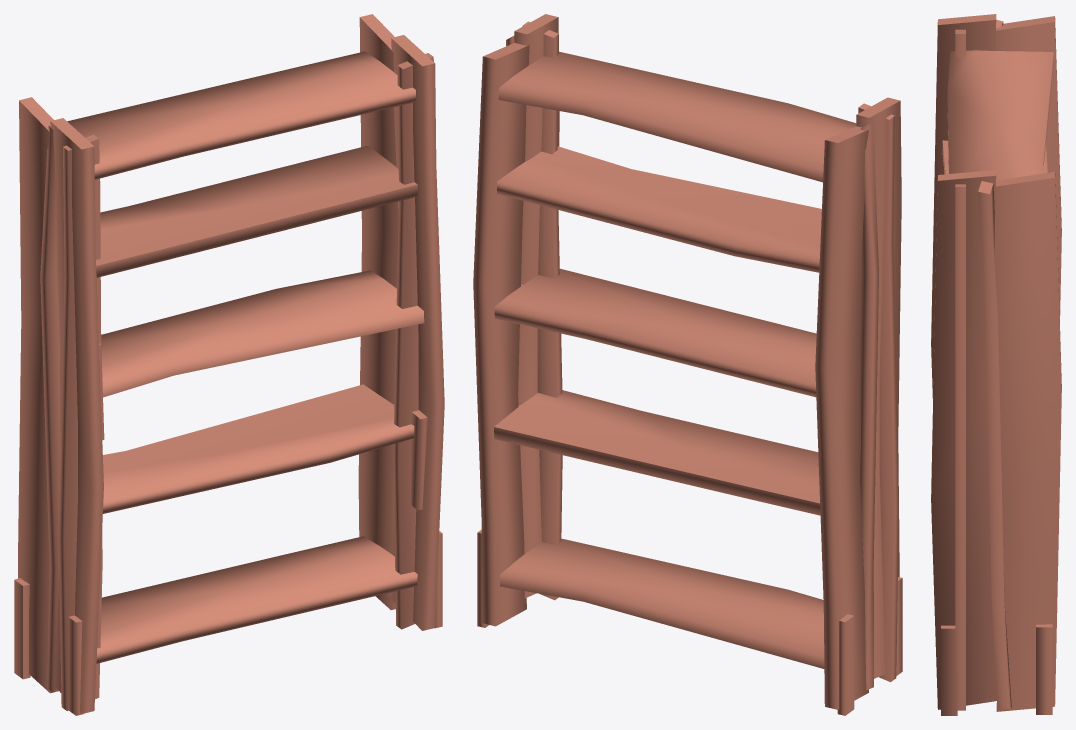
File: shelf_c.fbx
The picture shows the model from 3 angles, left to right: view 1: azimuth 30°, elevation 25°; view 2: azimuth 150°, elevation 25°; view 3: azimuth 270°, elevation 25°; orthographic projection. The views are drawn at different scales.
Visible parts, largest first — view 1: Cube.129; view 2: Cube.129; view 3: Cube.129.
Part boxes in pixels (x1=…): Cube.129: x1=14, y1=14, x2=444, y2=715; Cube.129: x1=473, y1=14, x2=902, y2=715; Cube.129: x1=931, y1=14, x2=1061, y2=715.
Bounding box in the file's own units: 2.2 × 3.22 × 0.7105.
